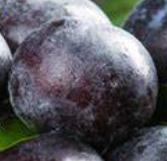plum_B: (8, 16, 158, 148)
